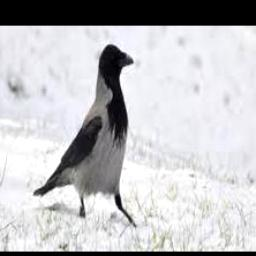Crow: (32, 42, 135, 227)
